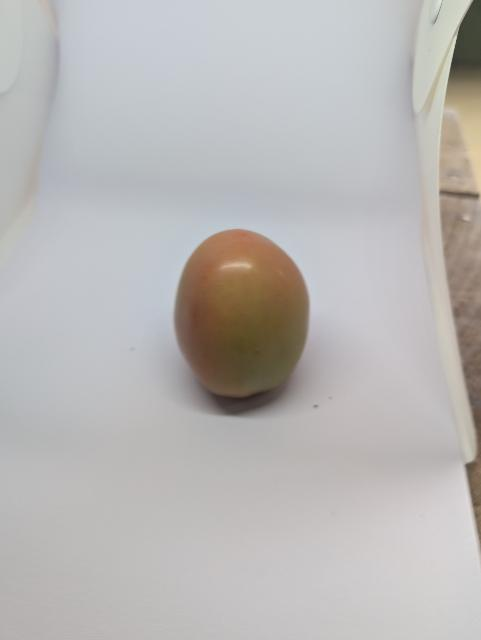turning: (170, 223, 318, 406)
